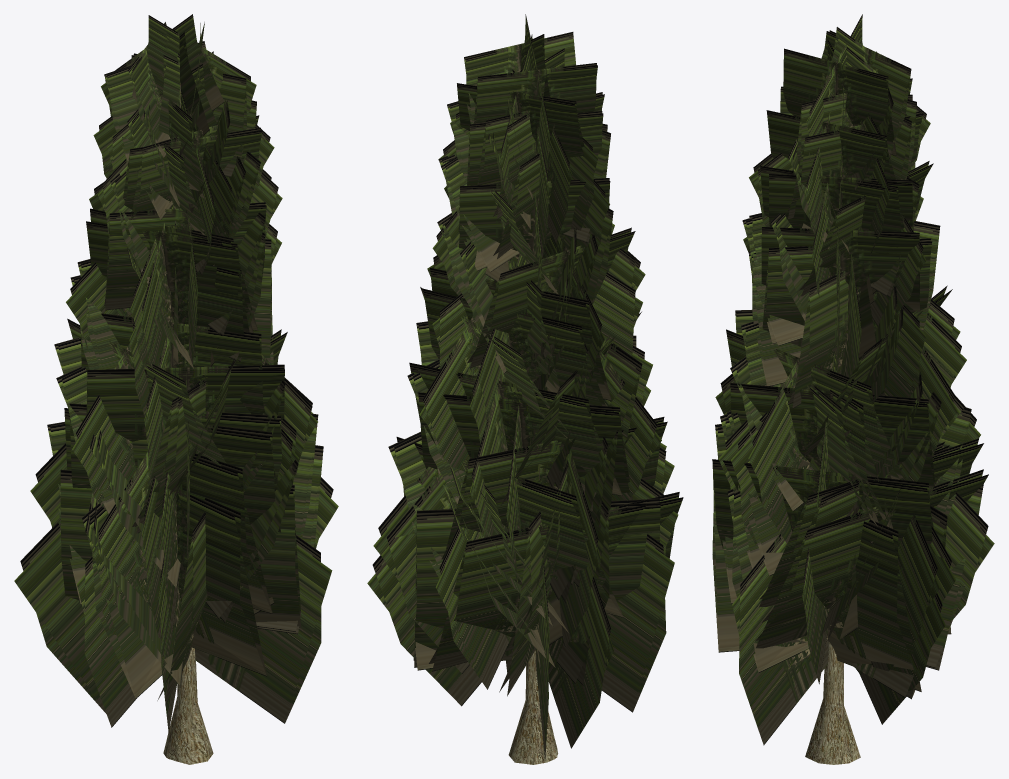
Rendered from tree2.obj.
The picture shows the model from 3 angles, left to right: view 1: azimuth 30°, elevation 25°; view 2: azimuth 150°, elevation 25°; view 3: azimuth 270°, elevation 25°; orthographic projection.
Parts seen in each view (by area): view 1: poplar384, poplar128; view 2: poplar384, poplar128; view 3: poplar384, poplar128.
Boxes of the visible parts, x1=… form: poplar384: x1=20, y1=14, x2=333, y2=764; poplar128: x1=14, y1=22, x2=338, y2=764; poplar384: x1=372, y1=14, x2=679, y2=764; poplar128: x1=367, y1=26, x2=683, y2=764; poplar384: x1=712, y1=14, x2=988, y2=764; poplar128: x1=712, y1=24, x2=994, y2=764.
Size of what is drawn, in the model's own units: 8.34 by 22.42 by 7.84.
